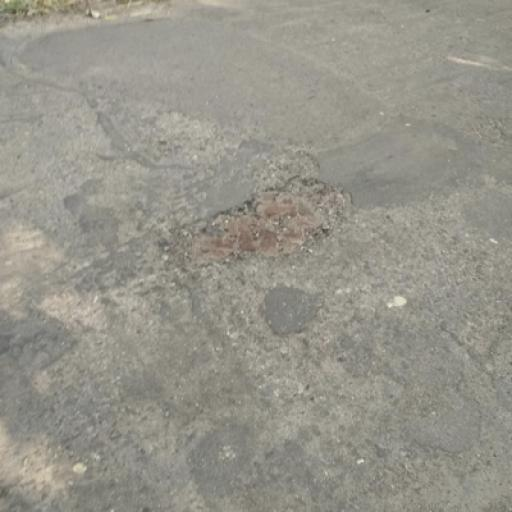pothole: (172, 174, 356, 274)
